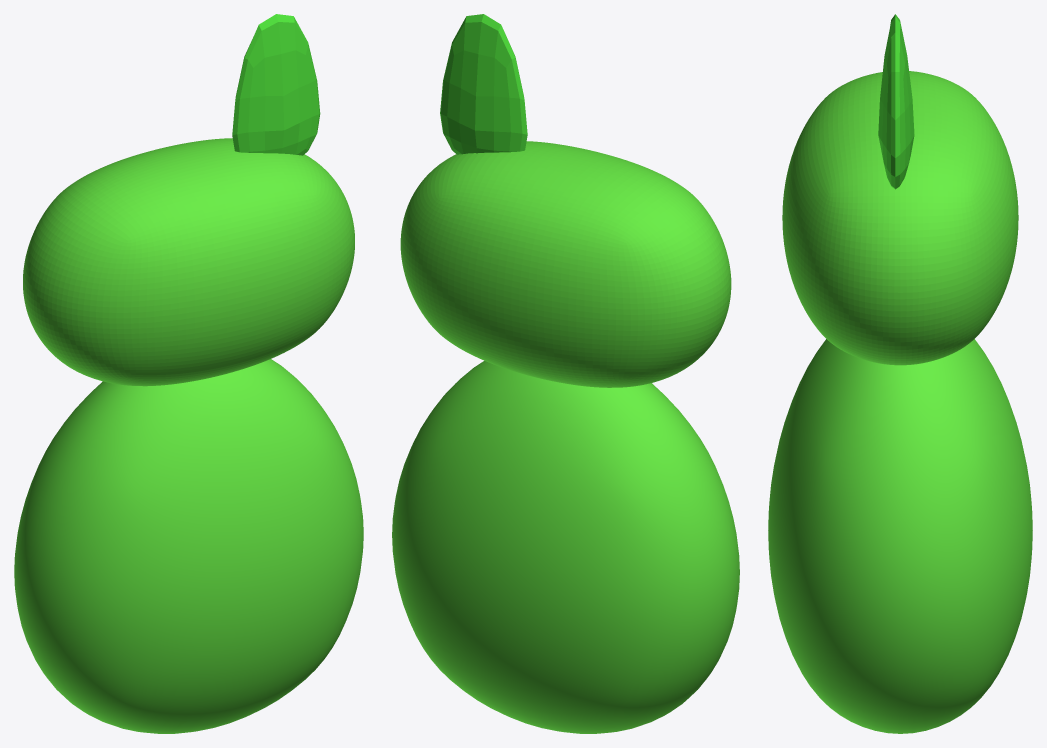
The model's file is asset.glb.
The picture shows the model from 3 angles, left to right: view 1: azimuth 30°, elevation 25°; view 2: azimuth 150°, elevation 25°; view 3: azimuth 270°, elevation 25°; orthographic projection. The views are drawn at different scales.
Visible parts, largest first — view 1: Body, Head, Ear1; view 2: Body, Head, Ear1; view 3: Body, Head, Ear1.
Boxes of the visible parts, <box> form: Body: <box>14,359,363,733</box>; Head: <box>23,138,354,386</box>; Ear1: <box>232,14,320,155</box>; Body: <box>392,361,739,733</box>; Head: <box>400,141,731,387</box>; Ear1: <box>440,14,527,154</box>; Body: <box>768,339,1032,733</box>; Head: <box>782,71,1018,365</box>; Ear1: <box>878,14,914,189</box>.
Size of the model in its own units: 2.36 by 4.81 by 1.56.
